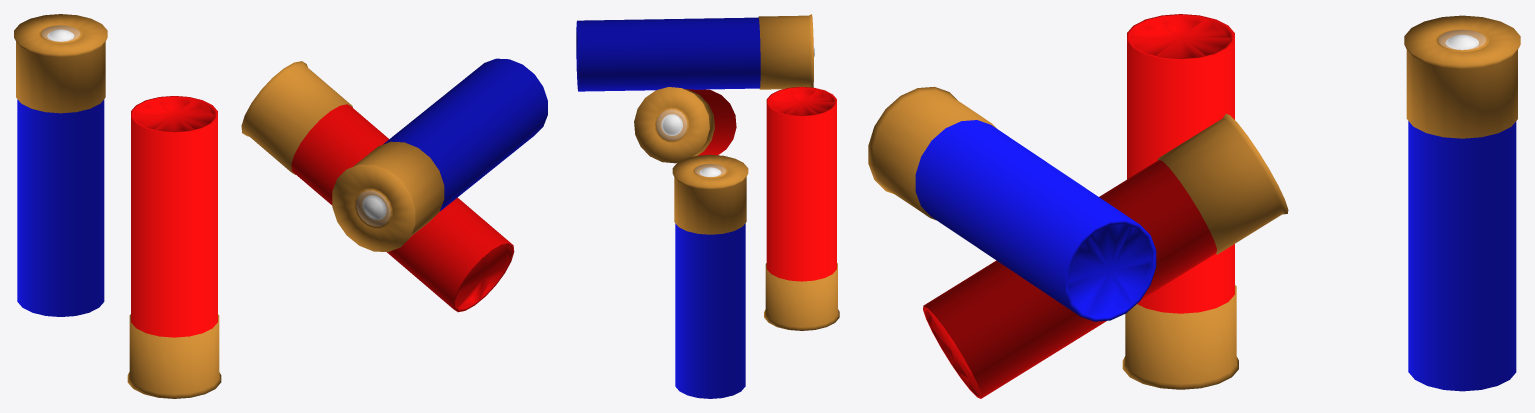
Rendered from SHOTGUN_CART_FBX.fbx.
The picture shows the model from 3 angles, left to right: view 1: azimuth 30°, elevation 25°; view 2: azimuth 150°, elevation 25°; view 3: azimuth 270°, elevation 25°; orthographic projection. The views are drawn at different scales.
Parts seen in each view (by area): view 1: cylinder1_copy4, cylinder1, cylinder1_copy3, cylinder1_copy2; view 2: cylinder1_copy4, cylinder1, cylinder1_copy3, cylinder1_copy2; view 3: cylinder1_copy4, cylinder1_copy3, cylinder1_copy2, cylinder1.
Boxes of the visible parts, left/top/right/bottom form: cylinder1_copy4: left=14, top=14, right=107, bottom=316; cylinder1: left=127, top=96, right=221, bottom=398; cylinder1_copy3: left=332, top=58, right=547, bottom=251; cylinder1_copy2: left=241, top=61, right=514, bottom=312; cylinder1_copy4: left=672, top=154, right=748, bottom=398; cylinder1: left=764, top=86, right=839, bottom=330; cylinder1_copy3: left=576, top=14, right=814, bottom=91; cylinder1_copy2: left=634, top=87, right=736, bottom=163; cylinder1_copy4: left=1404, top=15, right=1520, bottom=391; cylinder1_copy3: left=868, top=86, right=1156, bottom=321; cylinder1_copy2: left=923, top=113, right=1288, bottom=398; cylinder1: left=1122, top=14, right=1238, bottom=389.
Bounding box in the file's own units: 89.26 × 62.89 × 111.
